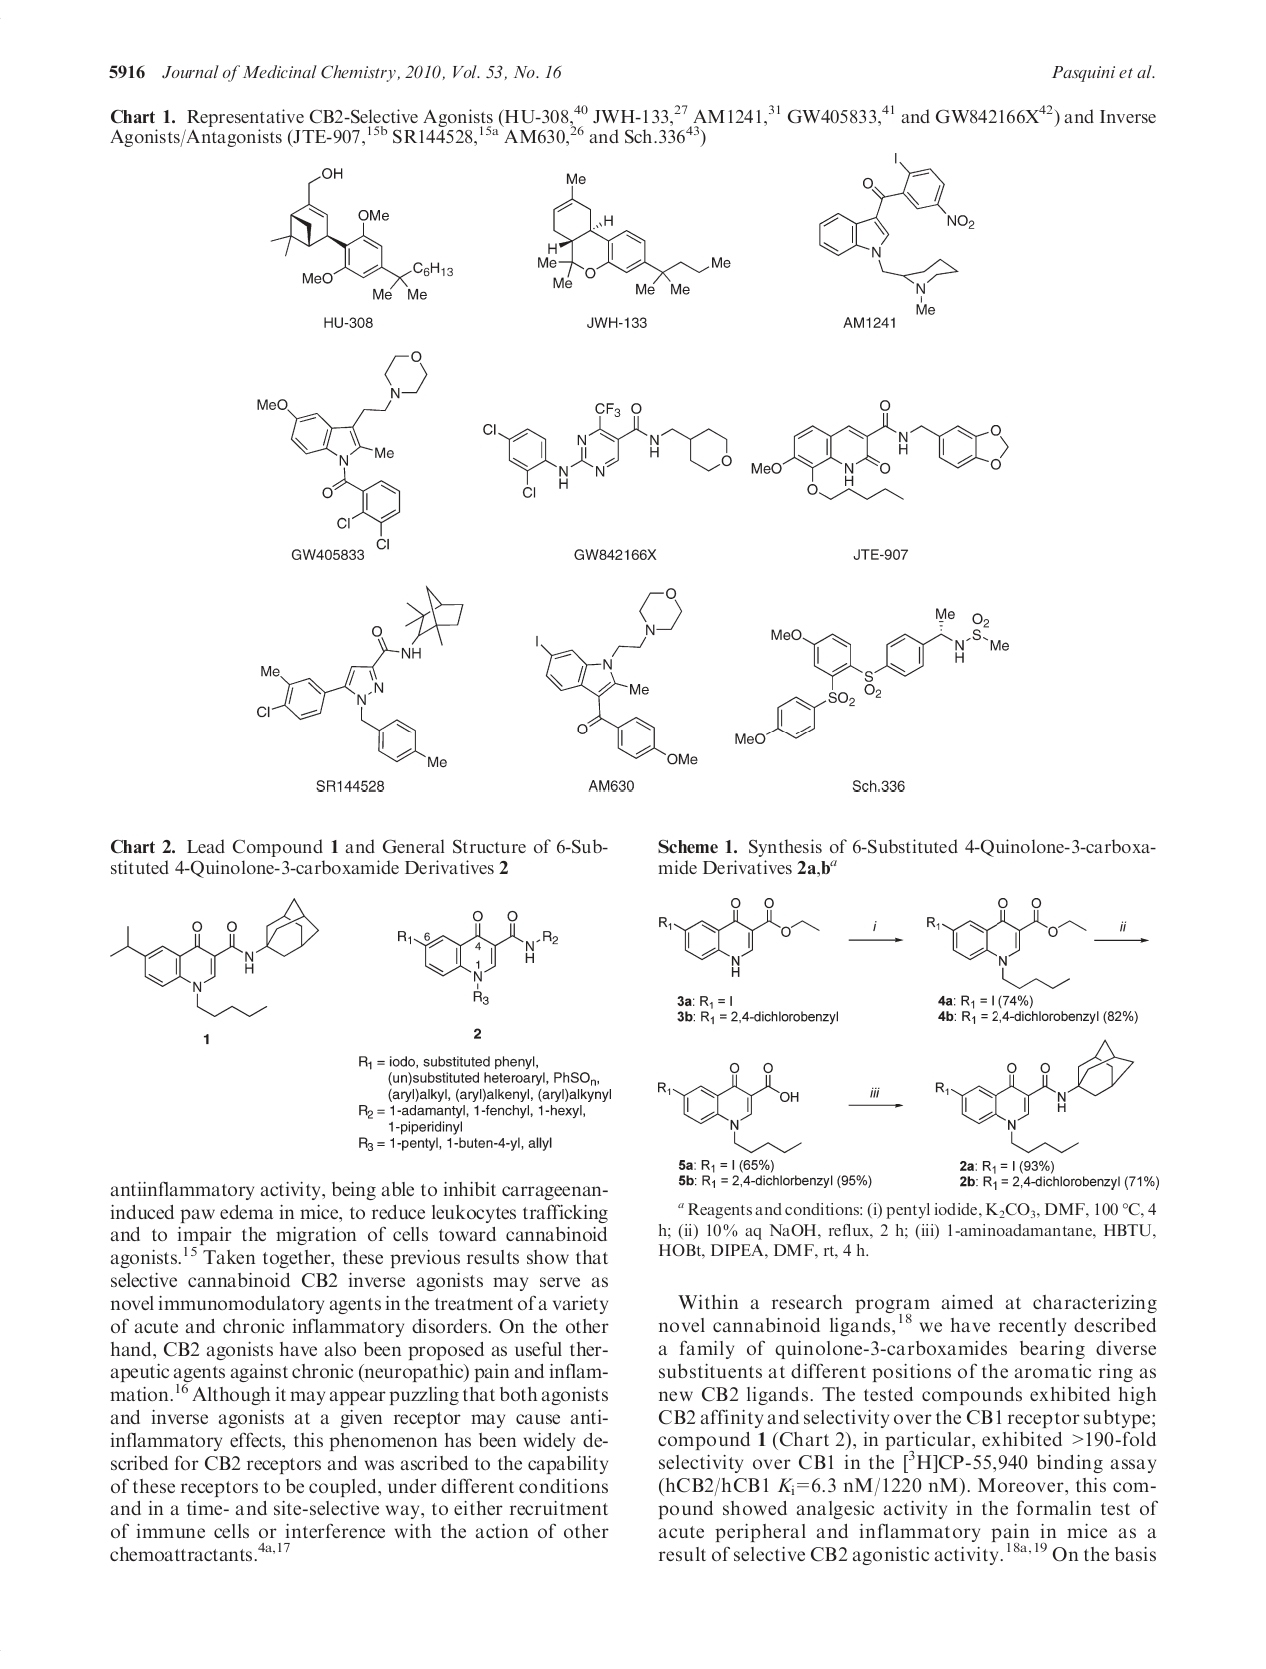exist_molecular: (725, 601, 1013, 753), (251, 586, 465, 774), (251, 344, 438, 553), (531, 578, 701, 770), (749, 394, 1019, 503), (811, 146, 977, 321), (532, 168, 733, 309), (265, 160, 456, 307), (477, 394, 735, 500), (104, 895, 320, 1020), (927, 1032, 1144, 1154), (390, 903, 559, 1007), (914, 892, 1090, 989), (652, 1057, 809, 1157), (656, 895, 821, 979)
